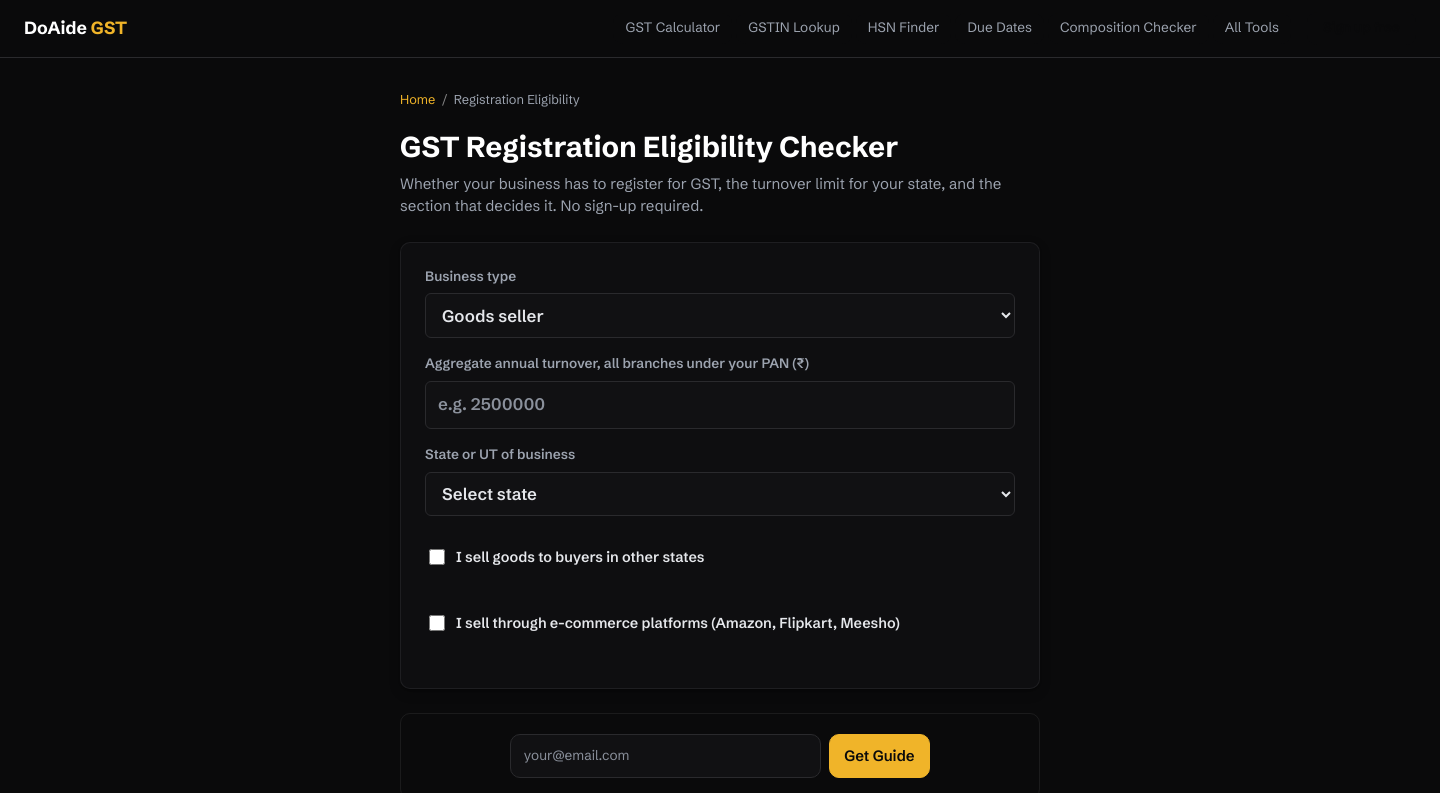
RegistrationCheckerPage › applies ₹10 lakh to a service provider in Manipur
Select "Service provider" in the dropdown labelled "Business type" at (720, 316), box [425, 293, 1015, 338]
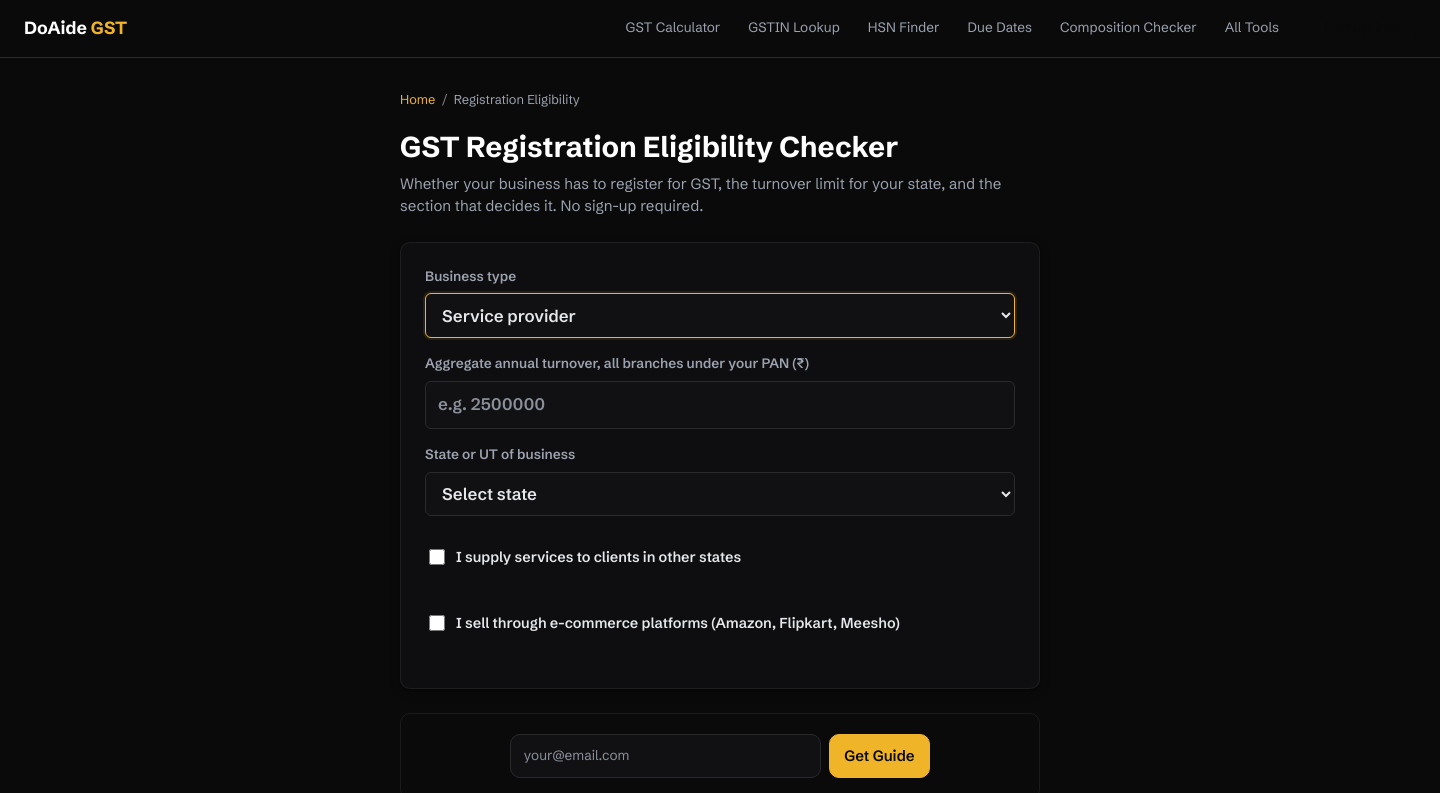
Select "Manipur" in the dropdown labelled "State or UT of business" at (720, 494), box [425, 472, 1015, 516]
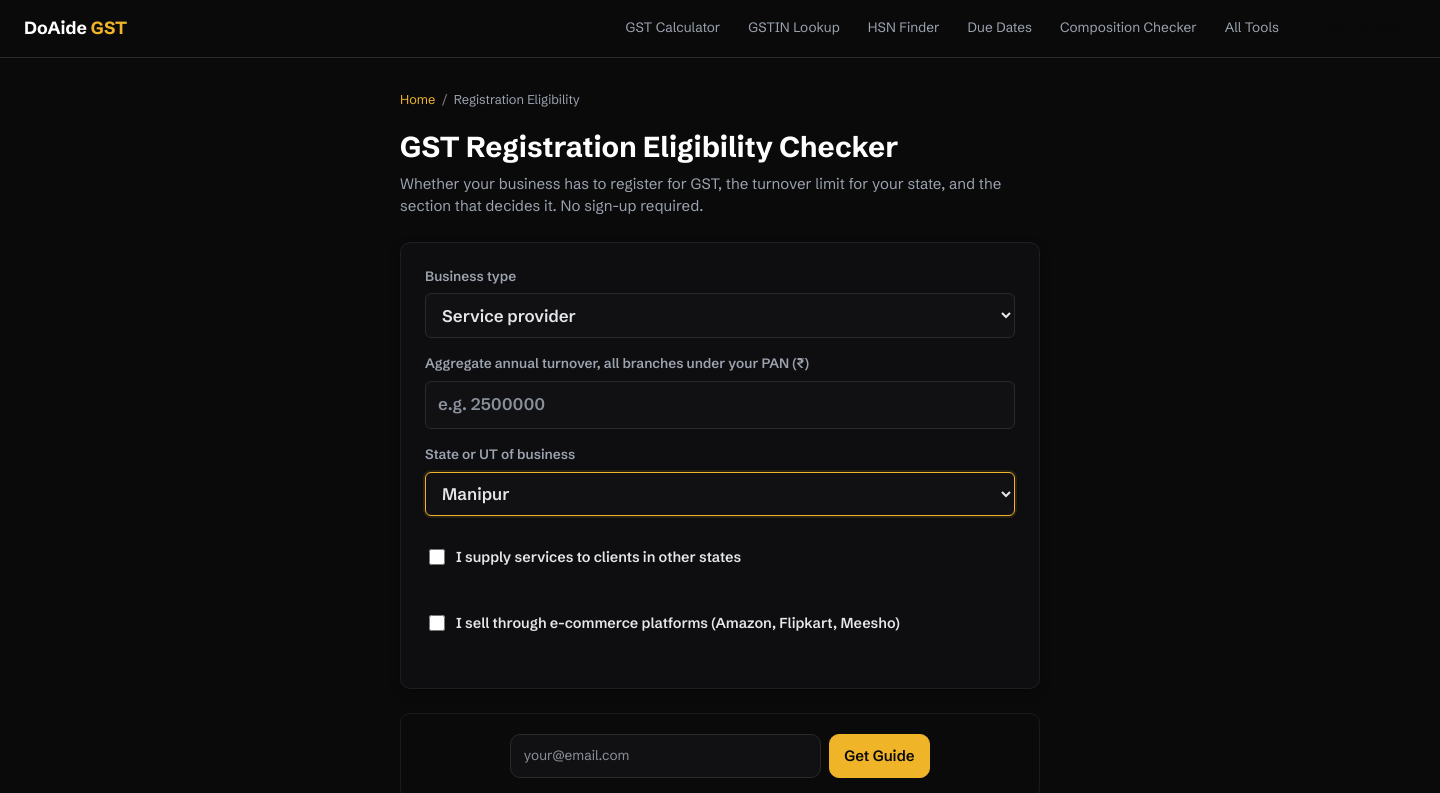
Type "1200000" into the number field labelled "Aggregate annual turnover, all branches under your PAN (₹)" at (720, 405), box [425, 381, 1015, 429]
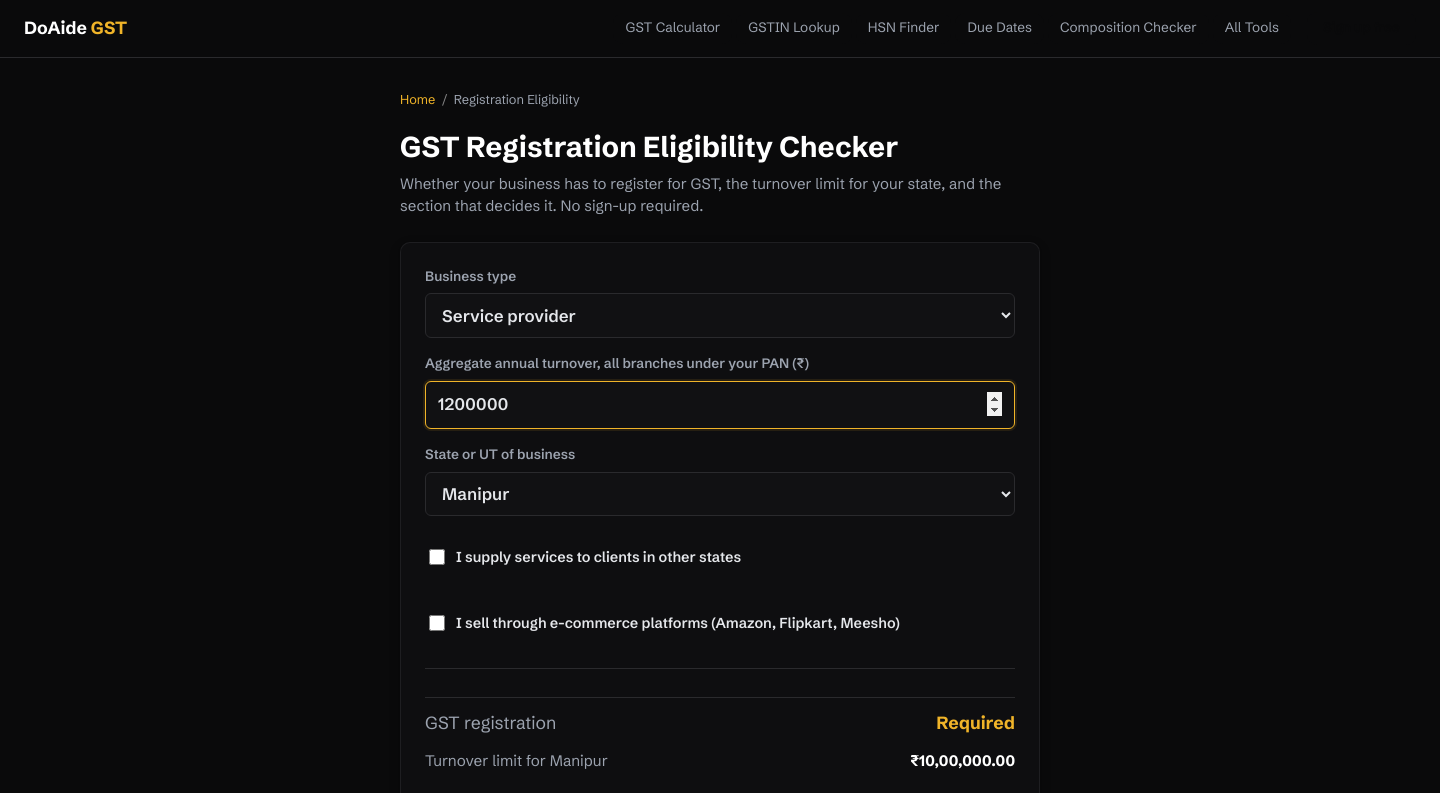
Result: the text "GST registration" shows "Required" at [936, 712, 1015, 734]
Result: the text "Turnover limit for Manipur" shows "10,00,000" at [911, 751, 1015, 770]
